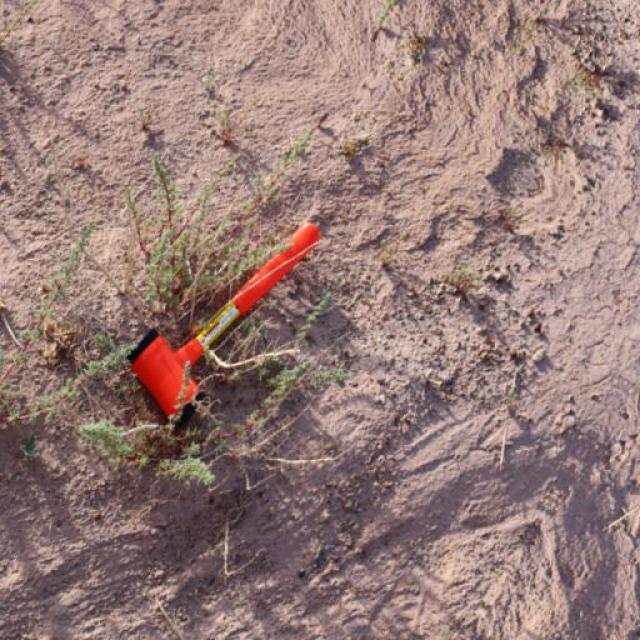mallet: (125, 218, 321, 424)
